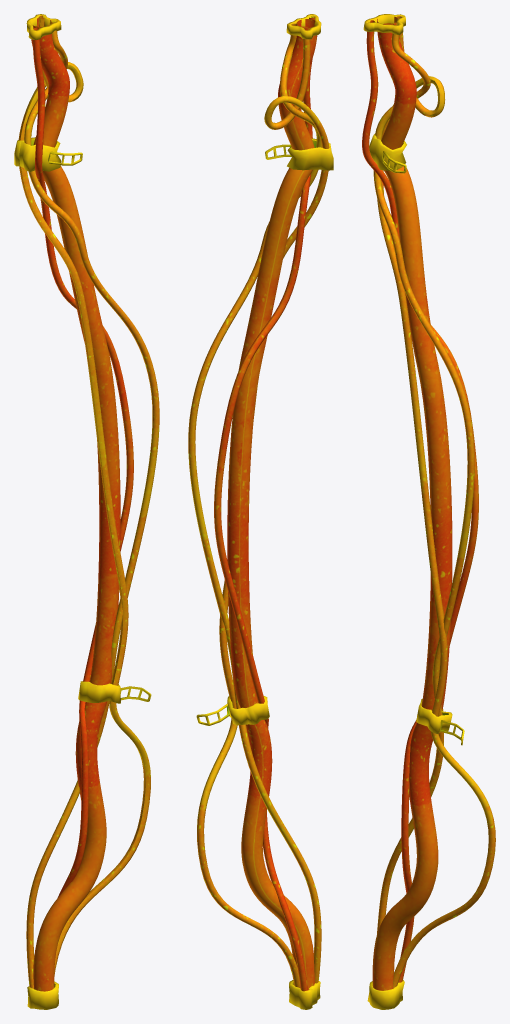
The model's file is SM_Cable_03.glb.
The picture shows the model from 3 angles, left to right: view 1: azimuth 30°, elevation 25°; view 2: azimuth 210°, elevation 25°; view 3: azimuth 330°, elevation 25°; orthographic projection.
Visible parts, largest first — view 1: SM_Cable_03; view 2: SM_Cable_03; view 3: SM_Cable_03.
Part boxes in pixels (x1=…): SM_Cable_03: x1=14, y1=14, x2=159, y2=1009; SM_Cable_03: x1=188, y1=14, x2=333, y2=1009; SM_Cable_03: x1=362, y1=14, x2=495, y2=1009.
Size of the model in its own units: 0.4083 by 3 by 0.1718.
Materials: 1 (1 with a texture image).
